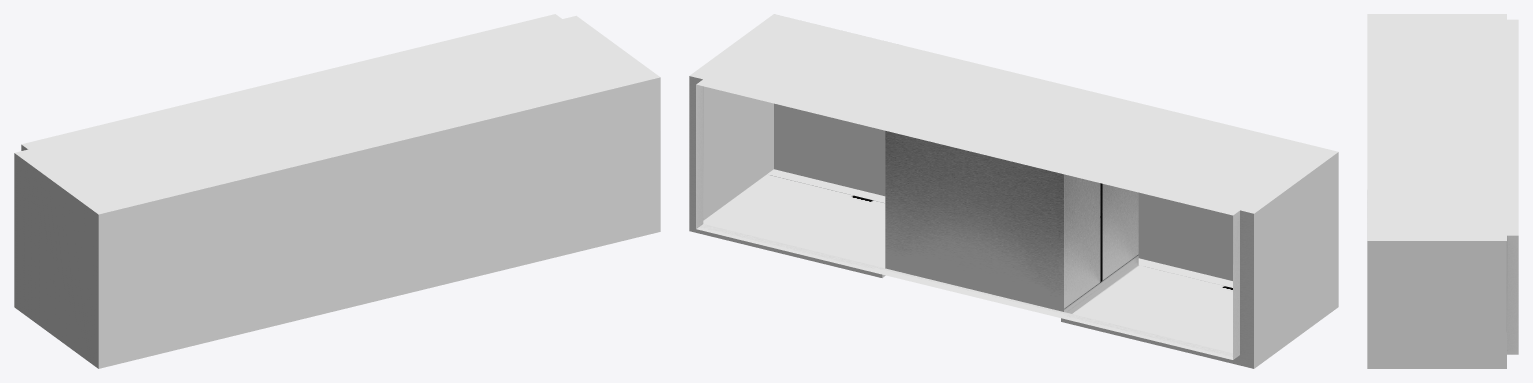
File: TVStand.obj
The picture shows the model from 3 angles, left to right: view 1: azimuth 30°, elevation 25°; view 2: azimuth 150°, elevation 25°; view 3: azimuth 270°, elevation 25°; orthographic projection. The views are drawn at different scales.
Parts seen in each view (by area): view 1: tv_tv_Cube; view 2: tv_tv_Cube; view 3: tv_tv_Cube.
Boxes of the visible parts, x1=… form: tv_tv_Cube: x1=14, y1=14, x2=660, y2=368; tv_tv_Cube: x1=689, y1=14, x2=1338, y2=368; tv_tv_Cube: x1=1367, y1=14, x2=1518, y2=368.
Size of the model in its own units: 1.6 by 0.4373 by 0.45.
1 material, 1 textured.
